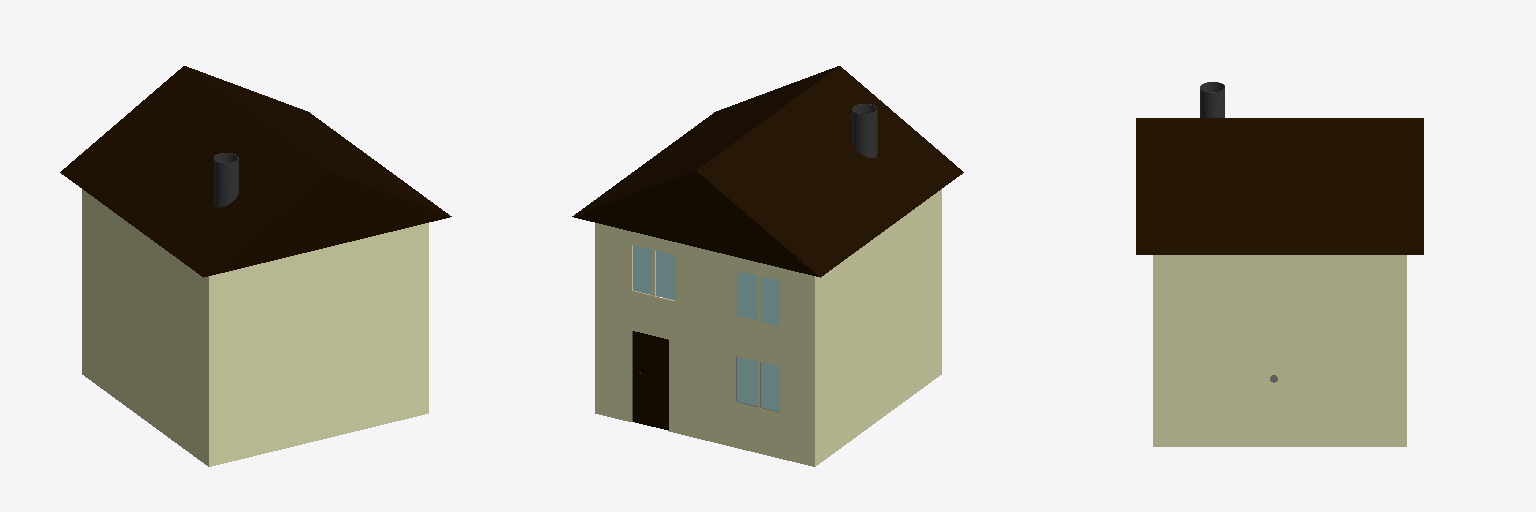
Rendered from consumer_dom_rodnoy.obj.
3 renders of one model, left to right at view 1: azimuth 30°, elevation 25°; view 2: azimuth 150°, elevation 25°; view 3: azimuth 270°, elevation 25°, orthographic.
Visible parts, largest first — view 1: obj1, obj3, obj6; view 2: obj1, obj3, obj5, obj6; view 3: obj1, obj3, obj6.
Part boxes in pixels (left/top/right/bottom): obj1: left=82, top=189, right=428, bottom=466; obj3: left=60, top=66, right=451, bottom=277; obj6: left=214, top=153, right=238, bottom=207; obj1: left=595, top=189, right=941, bottom=466; obj3: left=572, top=66, right=963, bottom=430; obj5: left=633, top=245, right=779, bottom=411; obj6: left=852, top=104, right=877, bottom=157; obj1: left=1153, top=255, right=1406, bottom=446; obj3: left=1136, top=118, right=1423, bottom=254; obj6: left=1200, top=82, right=1224, bottom=117.
Bounding box in the file's own units: 17 × 18 × 17.